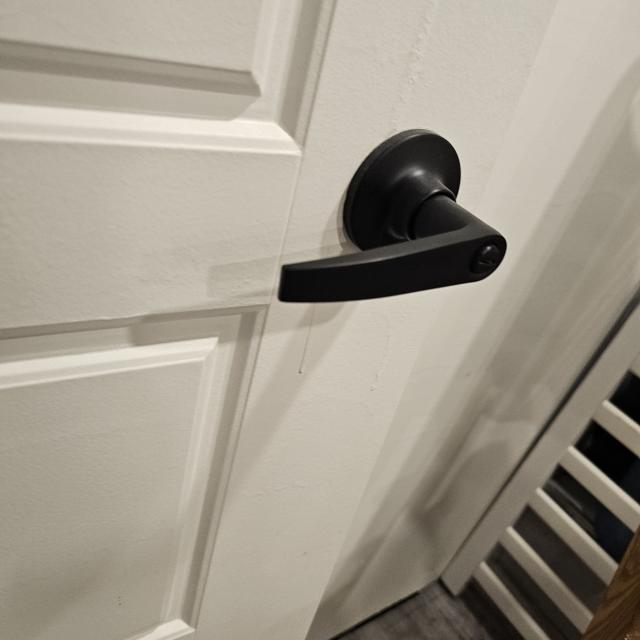door-handle: (279, 130, 506, 302)
